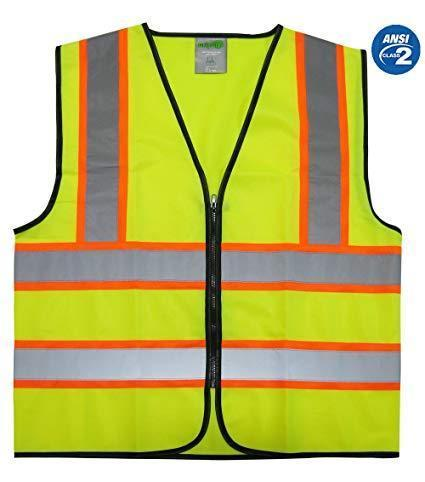vest: (9, 23, 404, 463)
